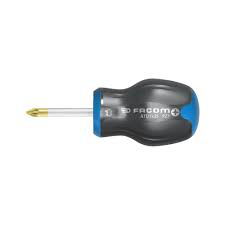screwdriver: (21, 71, 225, 164)
